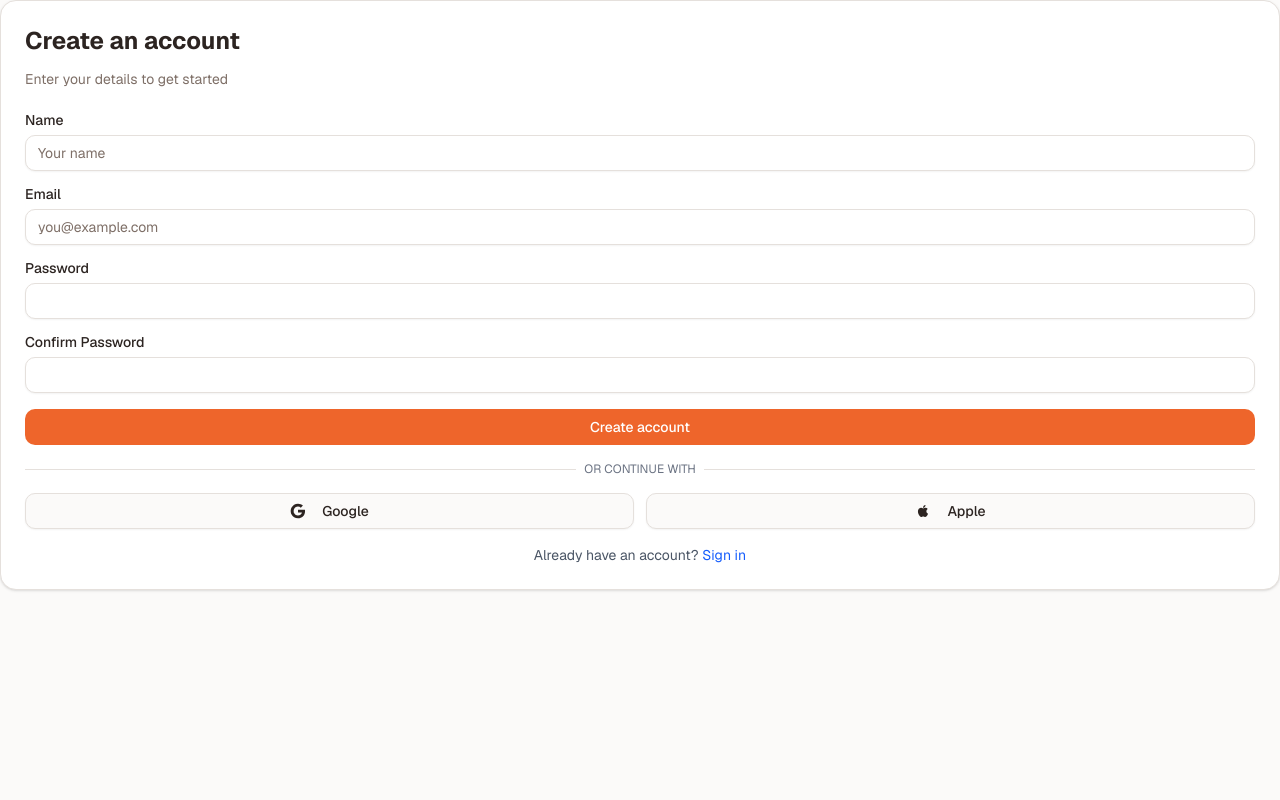
Test case: RegisterPage › displays error on registration failure
Type "Test User" into the field labelled "Name" at {"x": 640, "y": 153}, box [25,135,1255,171]
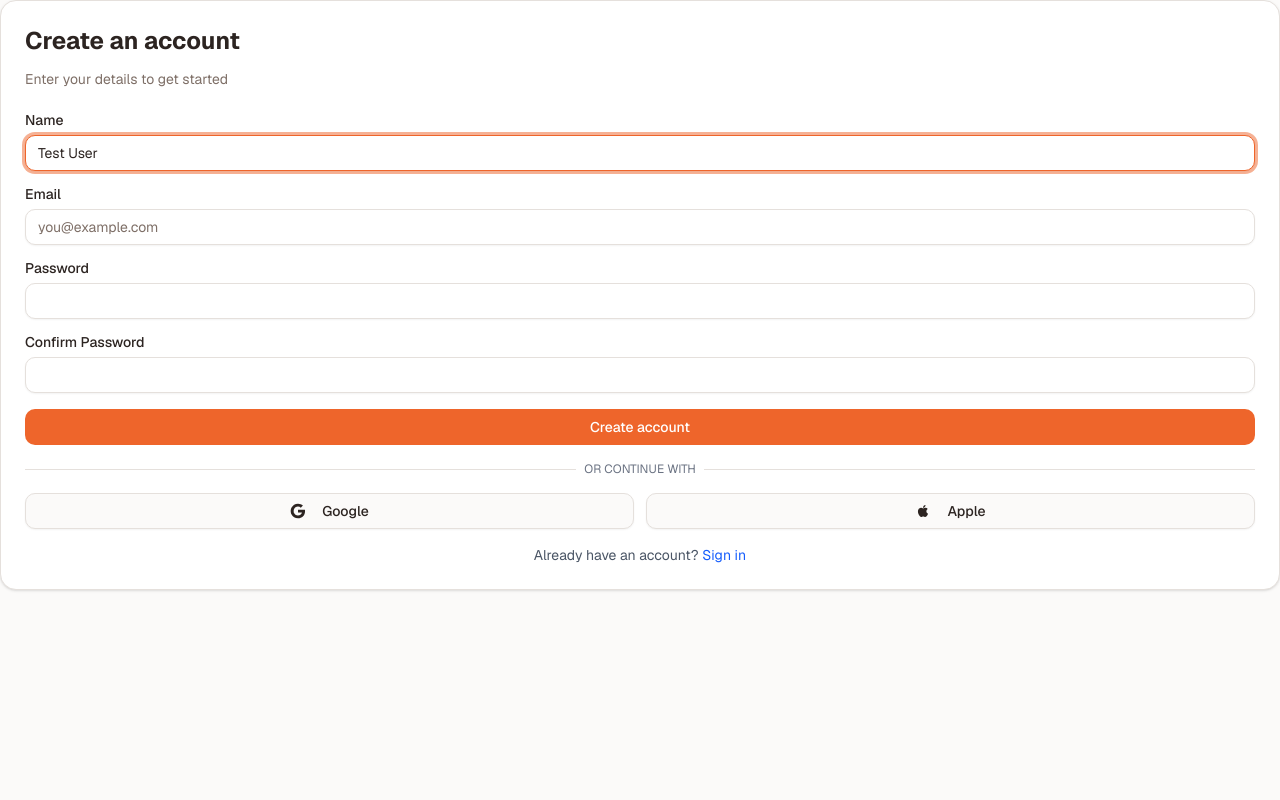
Type "existing@example.com" into the field labelled "Email" at {"x": 640, "y": 227}, box [25,209,1255,245]
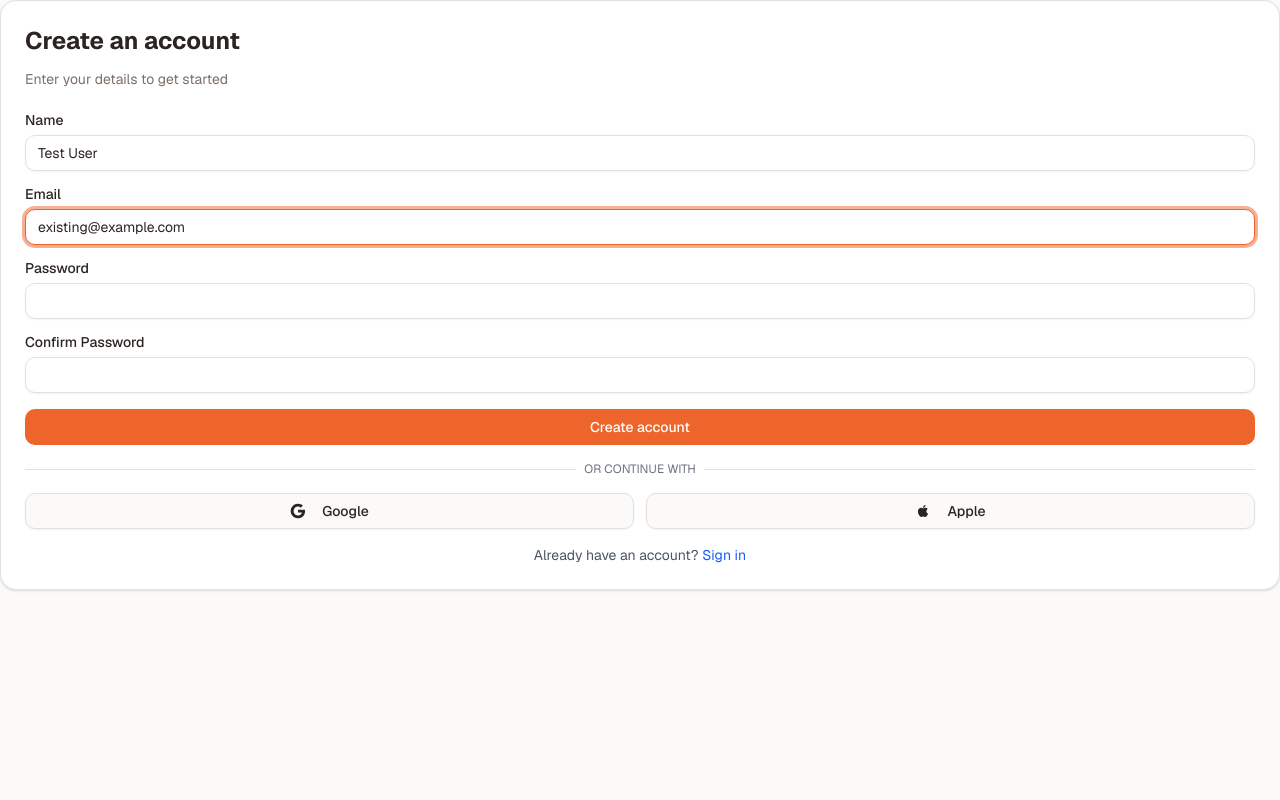
Type "password123" into the password field labelled "Password" at {"x": 640, "y": 301}, box [25,283,1255,319]
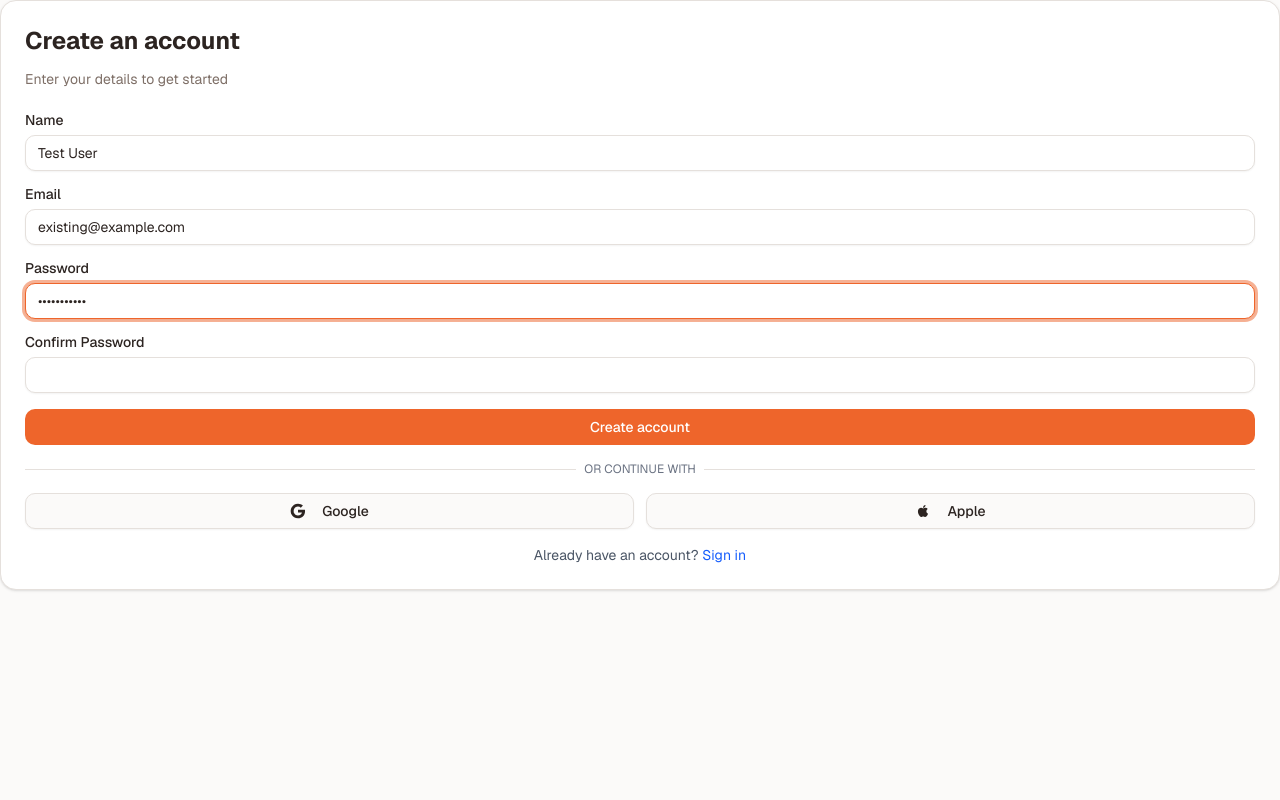
Type "password123" into the password field labelled "Confirm Password" at {"x": 640, "y": 375}, box [25,357,1255,393]
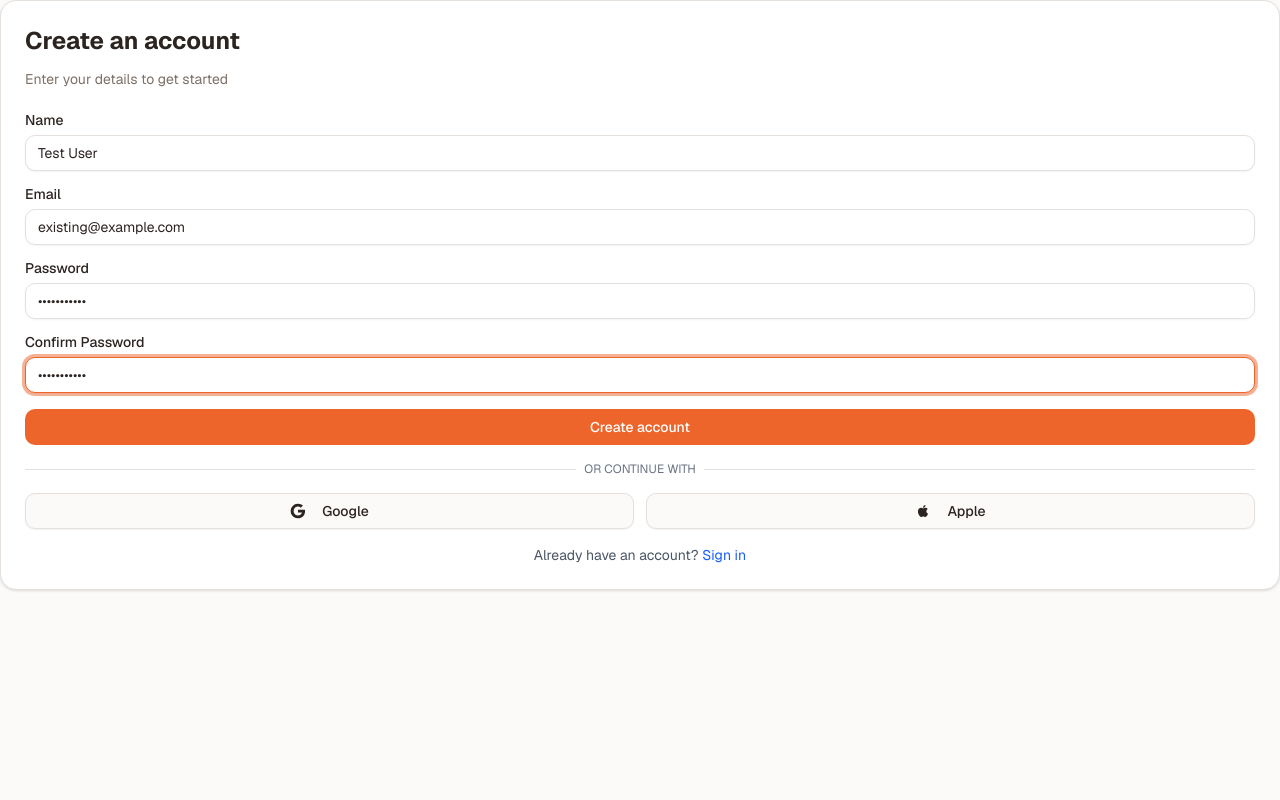
Click the button "Create account" at {"x": 640, "y": 427}, box [25,409,1255,445]
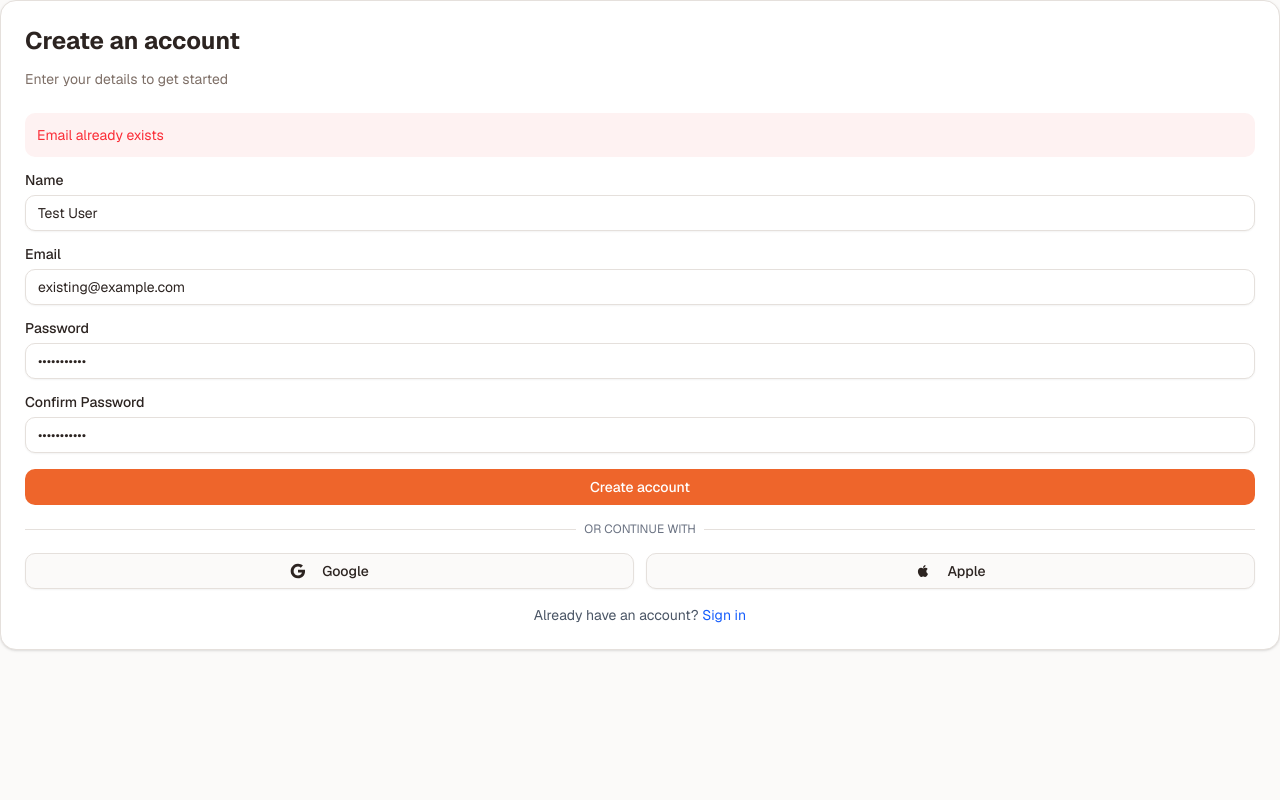
Now the text "Email already exists" is shown, box [25,113,1255,157]
